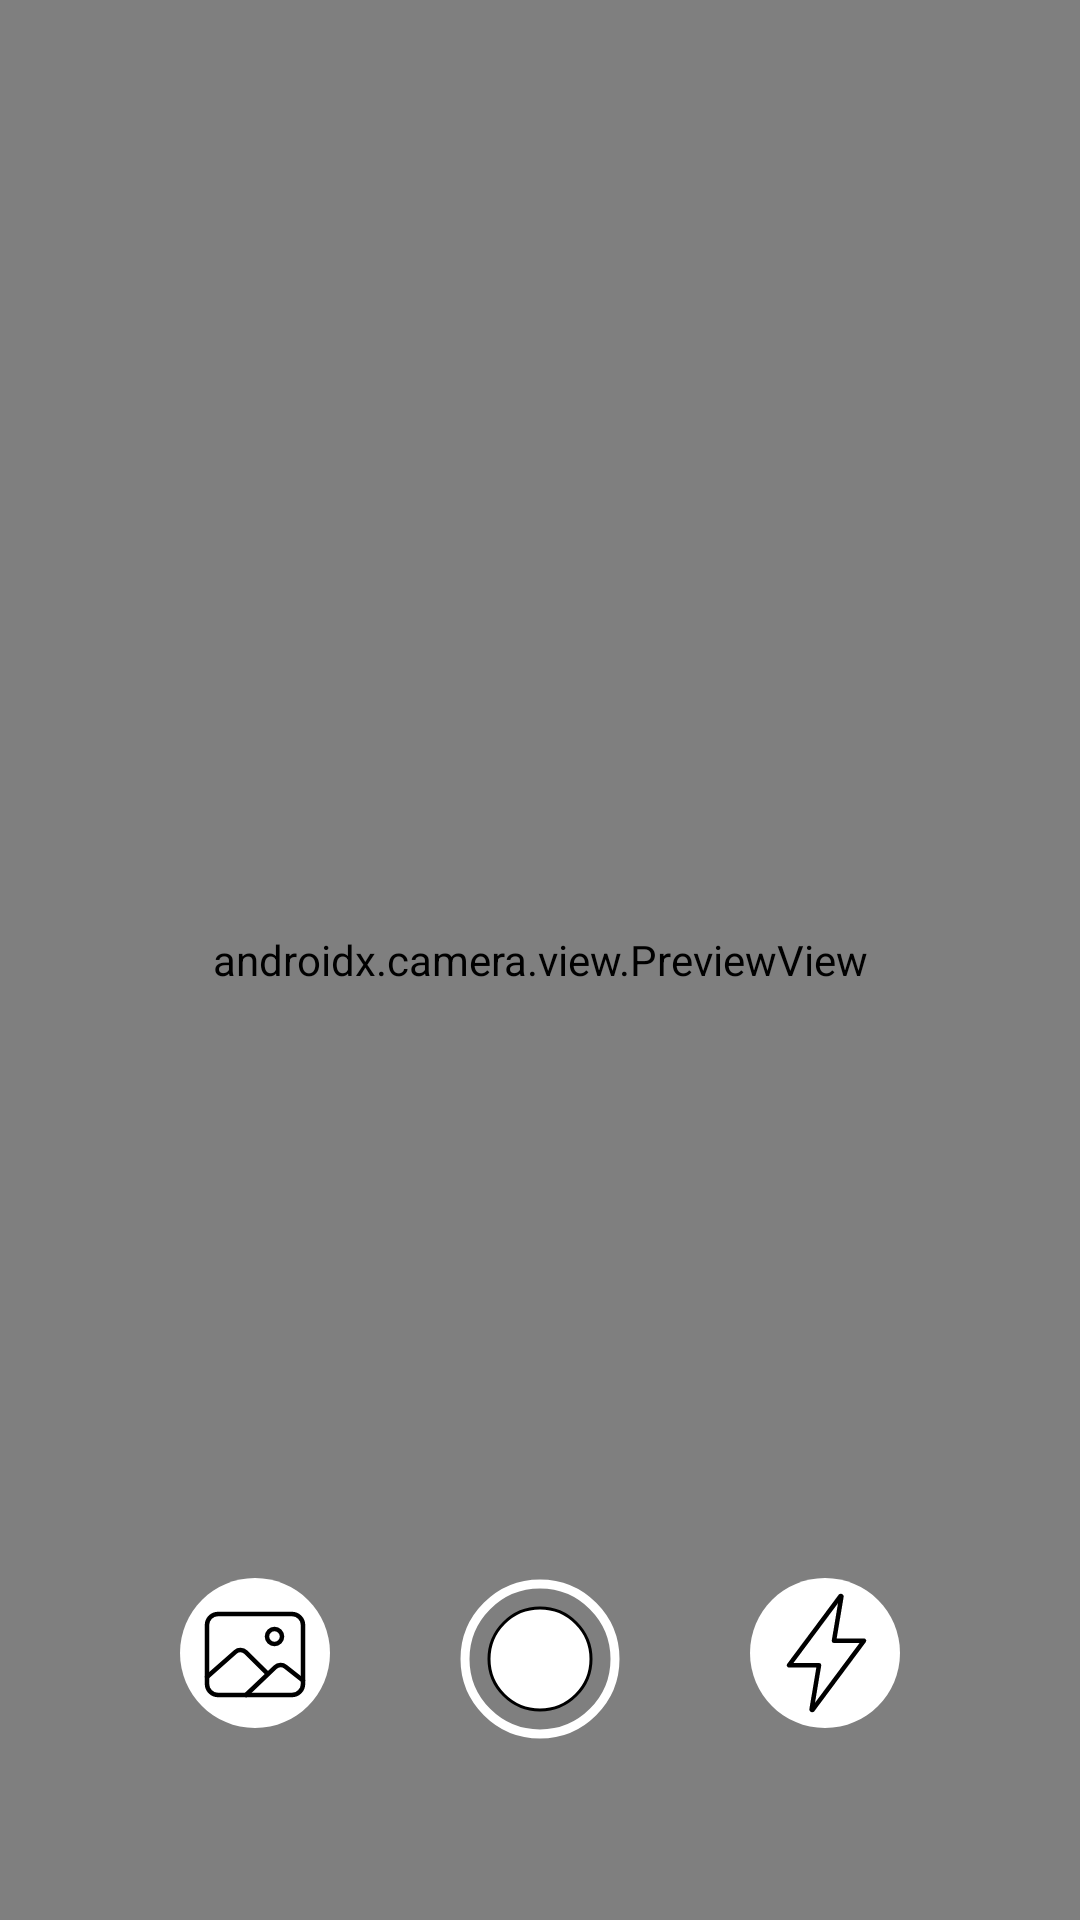

Icon click points for this 1080px x 1920px phone screenshot, format (x,y):
flash: (825,1653)
gallary: (255,1653)
take: (540,1659)
